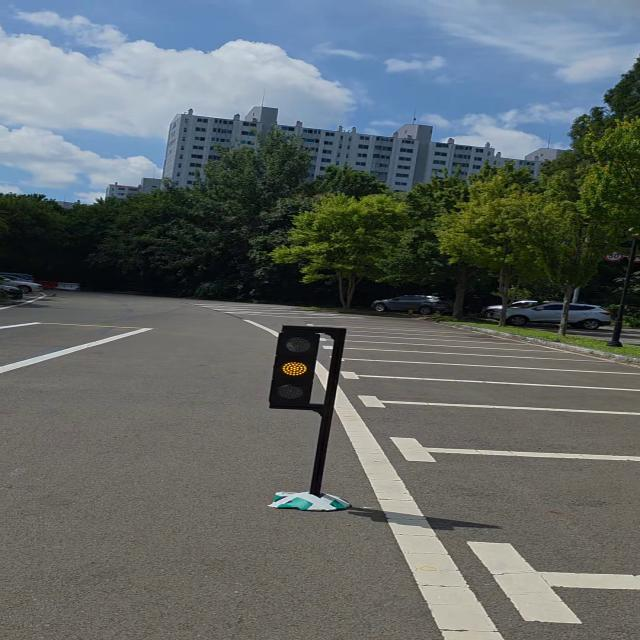yellow: (262, 323, 323, 414)
